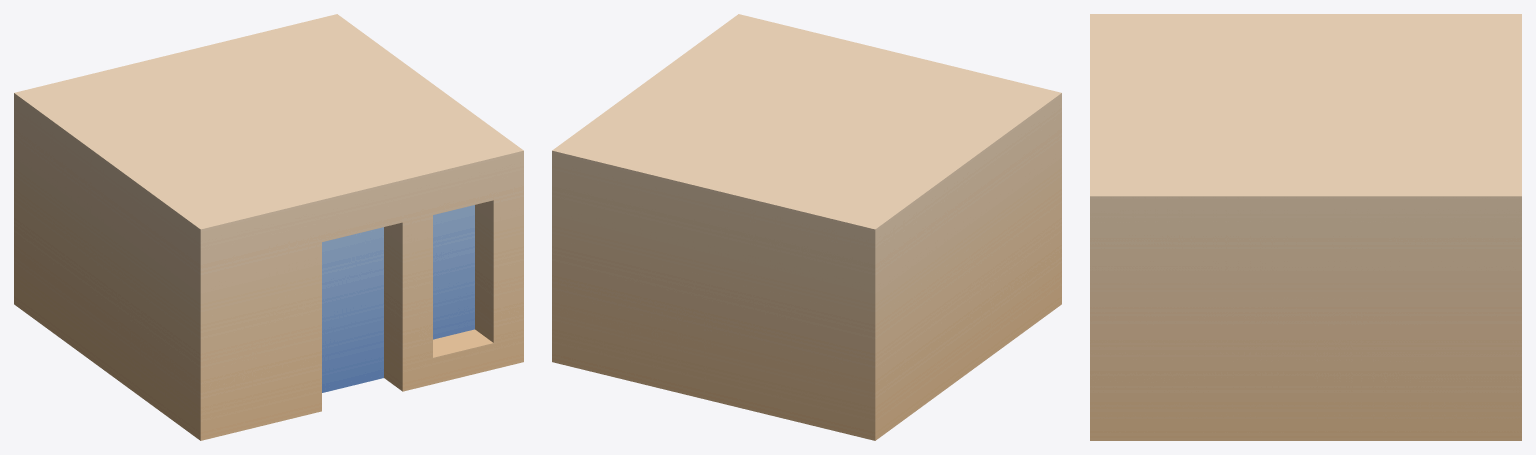
File: building-door-window-narrow.glb
The picture shows the model from 3 angles, left to right: view 1: azimuth 30°, elevation 25°; view 2: azimuth 150°, elevation 25°; view 3: azimuth 270°, elevation 25°; orthographic projection. The views are drawn at different scales.
Parts seen in each view (by area): view 1: building-door-window-narrow; view 2: building-door-window-narrow; view 3: building-door-window-narrow.
Boxes of the visible parts, <box> form: building-door-window-narrow: <box>14,14,523,440</box>; building-door-window-narrow: <box>552,14,1061,440</box>; building-door-window-narrow: <box>1090,14,1521,440</box>.
Bounding box in the file's own units: 1 × 0.625 × 1.
Materials: 1 (1 with a texture image).
